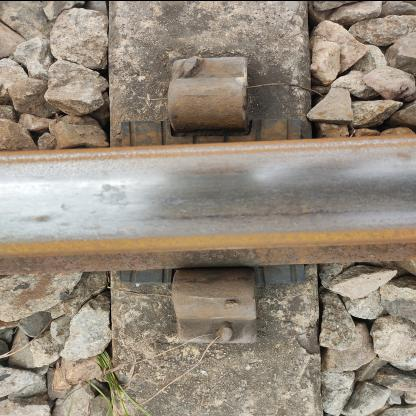Defective 1: (106, 249, 326, 371), (111, 20, 331, 142)
